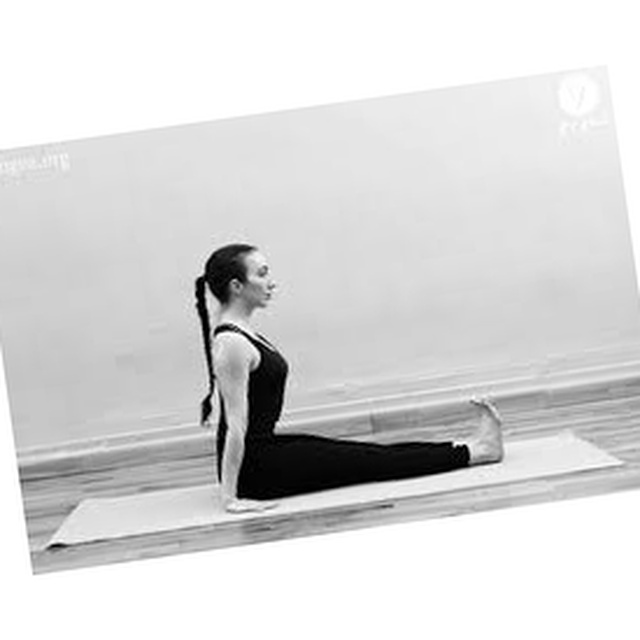Staff_Pose: (193, 244, 506, 512)
